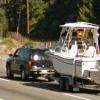Boat: (43, 18, 100, 91)
